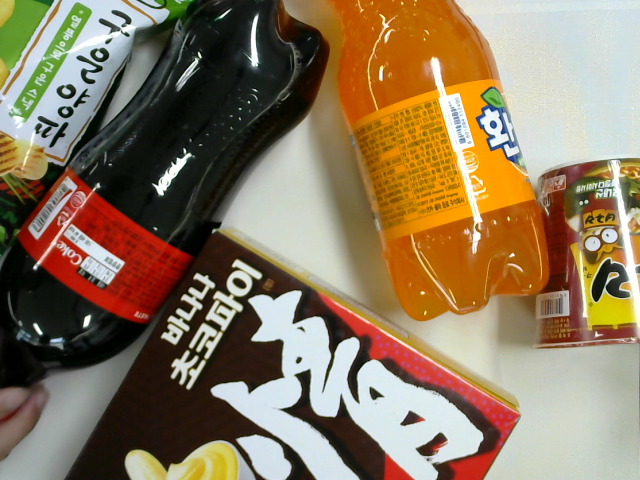Choco_Pie_Banana: (60, 227, 524, 480)
Coca_Cola_1.5L: (1, 1, 330, 388)
Grilled_Onions: (2, 1, 196, 258)
Hwanta_Orange_1.5L: (323, 1, 552, 323)
Raccoon: (532, 154, 640, 358)
